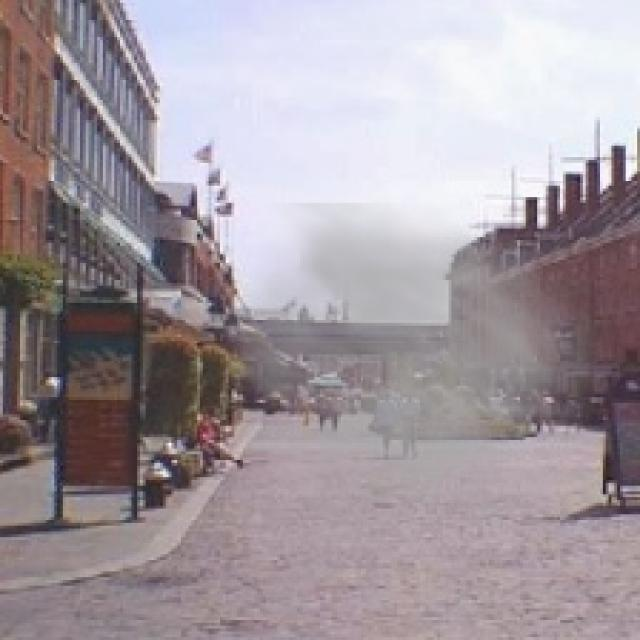Smoke: (202, 203, 618, 546)
